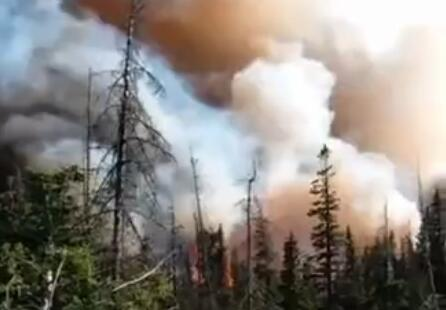yanwu: (0, 1, 434, 257)
